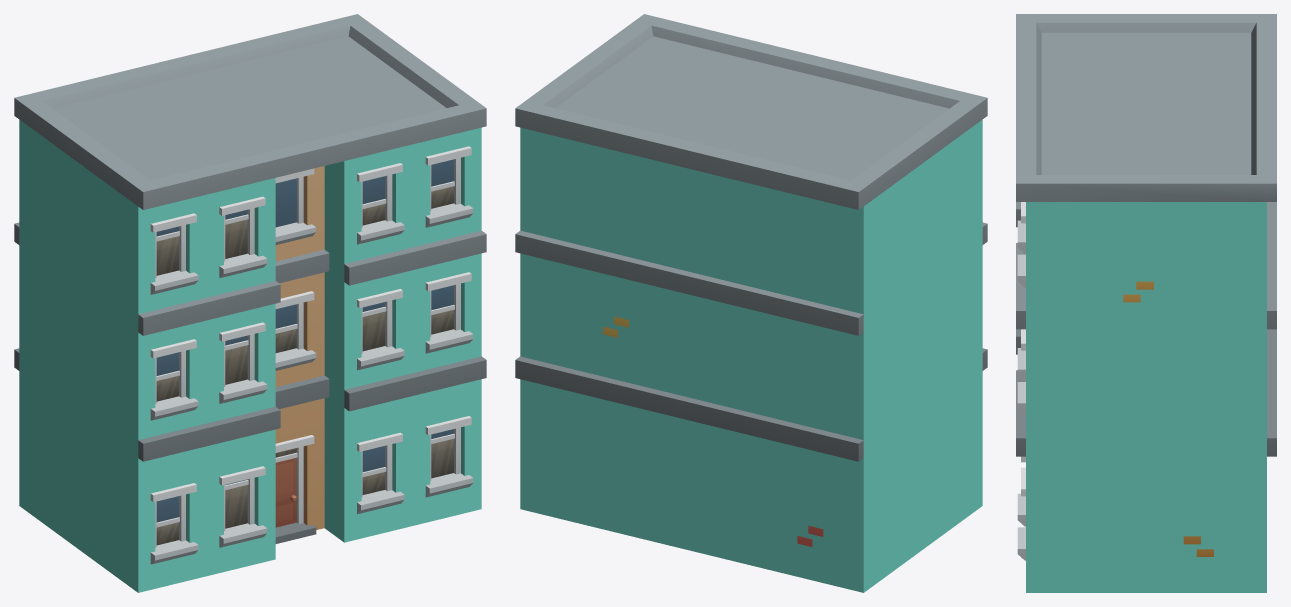
Rendered from nha11.glb.
3 renders of one model, left to right at view 1: azimuth 30°, elevation 25°; view 2: azimuth 150°, elevation 25°; view 3: azimuth 270°, elevation 25°, orthographic.
Visible parts, largest first — view 1: building_F_withoutBase_Cube.944; view 2: building_F_withoutBase_Cube.944; view 3: building_F_withoutBase_Cube.944.
Boxes of the visible parts, x1,y1,x2,y2 form: building_F_withoutBase_Cube.944: (14,14,486,592); building_F_withoutBase_Cube.944: (515,14,987,592); building_F_withoutBase_Cube.944: (1016,14,1276,592).
Size of the model in its own units: 2.01 by 2.25 by 1.3.
2 materials, 1 textured.
